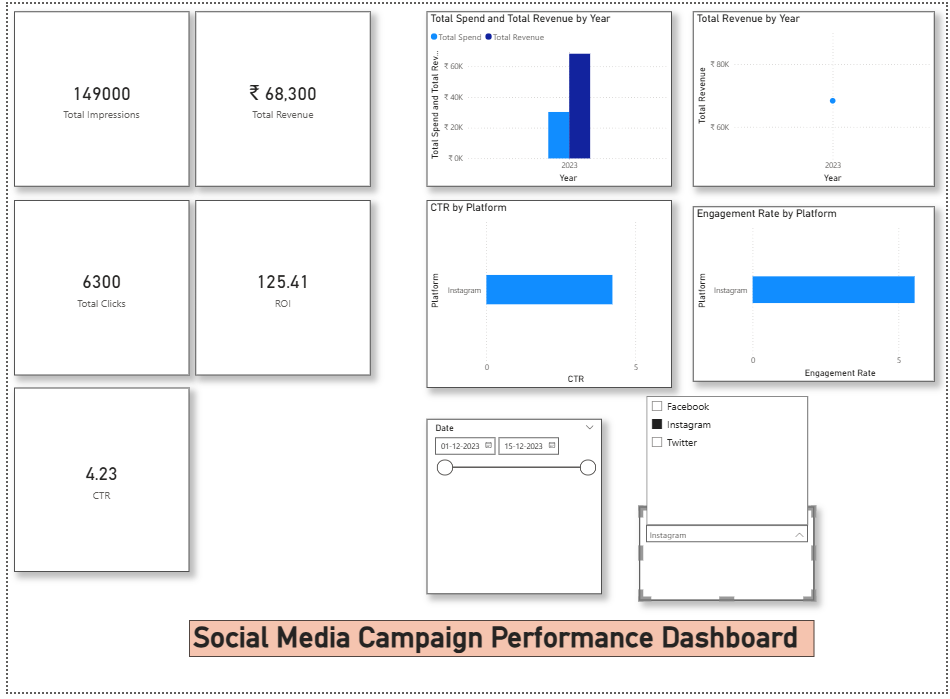

Layout of this report page (visuals, bound fields, positions):
{"tool":"powerbi","page":{"name":"Page 1","canvas":[1500,1100],"ordinal":0},"visuals":[{"type":"card","fields":{"Values":["social_media_campaign_data.Total Impressions"]},"box":[10,12,280,280],"z":0},{"type":"card","fields":{"Values":["social_media_campaign_data.Total Clicks"]},"box":[10,314,280,280],"z":1000},{"type":"card","fields":{"Values":["social_media_campaign_data.CTR"]},"box":[10,614,280,294],"z":2000},{"type":"card","fields":{"Values":["social_media_campaign_data.Total Revenue"]},"box":[300,12,280,280],"z":3000},{"type":"card","fields":{"Values":["social_media_campaign_data.ROI"]},"box":[300,314,280,280],"z":4000},{"type":"lineChart","fields":{"Category":["social_media_campaign_data.Date.Variation.Date Hierarchy.Year","social_media_campaign_data.Date.Variation.Date Hierarchy.Quarter","social_media_campaign_data.Date.Variation.Date Hierarchy.Month","social_media_campaign_data.Date.Variation.Date Hierarchy.Day"],"Y":["social_media_campaign_data.Total Revenue"]},"box":[1096,12,386,280],"z":5000},{"type":"barChart","fields":{"Category":["social_media_campaign_data.Platform"],"Y":["social_media_campaign_data.CTR"]},"box":[670,314,392,300],"z":6000},{"type":"clusteredColumnChart","fields":{"Category":["social_media_campaign_data.Date.Variation.Date Hierarchy.Year","social_media_campaign_data.Date.Variation.Date Hierarchy.Quarter","social_media_campaign_data.Date.Variation.Date Hierarchy.Month","social_media_campaign_data.Date.Variation.Date Hierarchy.Day"],"Y":["social_media_campaign_data.Total Spend","social_media_campaign_data.Total Revenue"]},"box":[670,12,392,280],"z":7000},{"type":"barChart","fields":{"Category":["social_media_campaign_data.Platform"],"Y":["social_media_campaign_data.Engagement Rate"]},"box":[1096,324,386,280],"z":8000},{"type":"slicer","fields":{"Values":["social_media_campaign_data.Platform"]},"box":[1010,664,280,150],"z":9000},{"type":"slicer","fields":{"Values":["social_media_campaign_data.Date"]},"box":[670,664,280,280],"z":10000},{"type":"textbox","title":"Social Media Campaign Performance Dashboard","box":[290,986,1000,58],"z":11000}]}

Visuals, with their boxes in screenshot pixels (x1, y1, x2, y2), scaled from the page's 1500x1100 canvas onto the 950x699 screenshot:
card - social_media_campaign_data.Total Impressions: (left=6, top=8, right=184, bottom=186)
card - social_media_campaign_data.Total Clicks: (left=6, top=200, right=184, bottom=377)
card - social_media_campaign_data.CTR: (left=6, top=390, right=184, bottom=577)
card - social_media_campaign_data.Total Revenue: (left=190, top=8, right=367, bottom=186)
card - social_media_campaign_data.ROI: (left=190, top=200, right=367, bottom=377)
lineChart - social_media_campaign_data.Date.Variation.Date Hierarchy.Year x social_media_campaign_data.Date.Variation.Date Hierarchy.Quarter: (left=694, top=8, right=939, bottom=186)
barChart - social_media_campaign_data.Platform x social_media_campaign_data.CTR: (left=424, top=200, right=673, bottom=390)
clusteredColumnChart - social_media_campaign_data.Date.Variation.Date Hierarchy.Year x social_media_campaign_data.Date.Variation.Date Hierarchy.Quarter: (left=424, top=8, right=673, bottom=186)
barChart - social_media_campaign_data.Platform x social_media_campaign_data.Engagement Rate: (left=694, top=206, right=939, bottom=384)
slicer - social_media_campaign_data.Platform: (left=640, top=422, right=817, bottom=517)
slicer - social_media_campaign_data.Date: (left=424, top=422, right=602, bottom=600)
"Social Media Campaign Performance Dashboard" textbox: (left=184, top=627, right=817, bottom=663)
